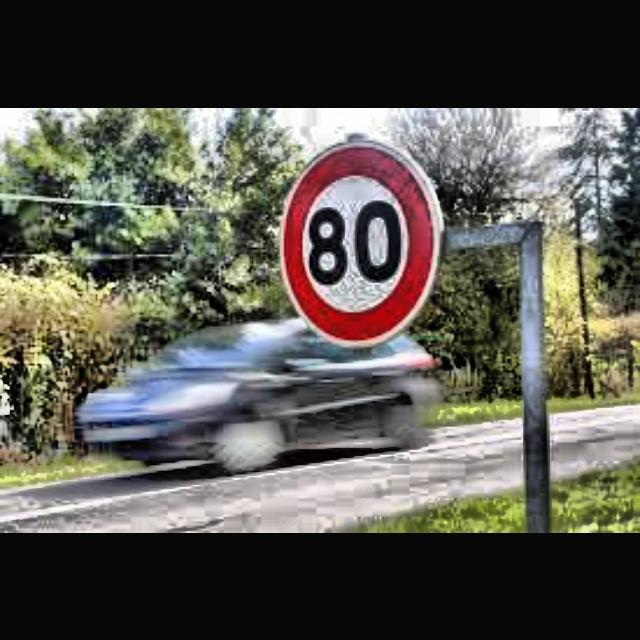speed_80: (277, 140, 445, 346)
